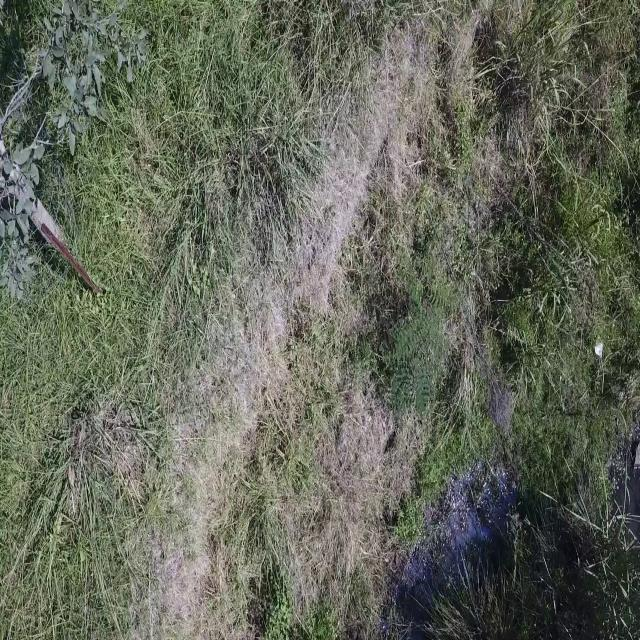Mysore-Thorn-Weed: (388, 273, 448, 414)
